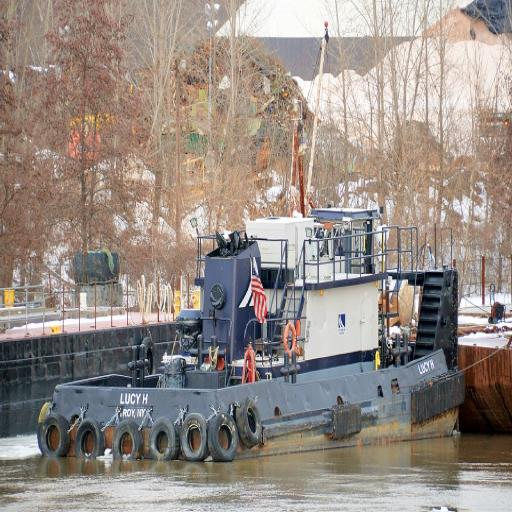tugboat: (35, 200, 470, 476)
